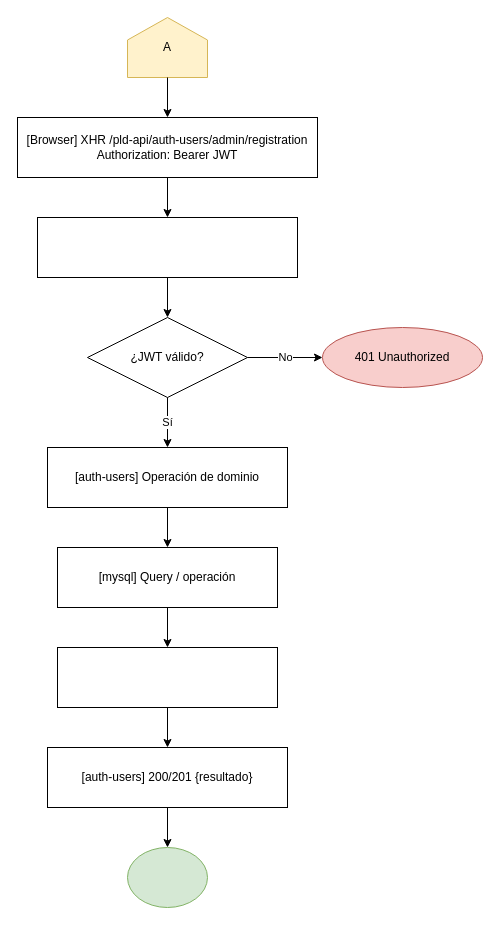
Some shapes in this 500 by 925 pixel diagram are drawn without their labels. The shapes that lost their labels are listed below. From the top down, each one's centre as x and y in pixels, then its label:
the point at 167,247: [auth-users] JwtAuthGuard.verifica()
the point at 167,677: [auth-users] Procesa rows
the point at 167,877: Fin
